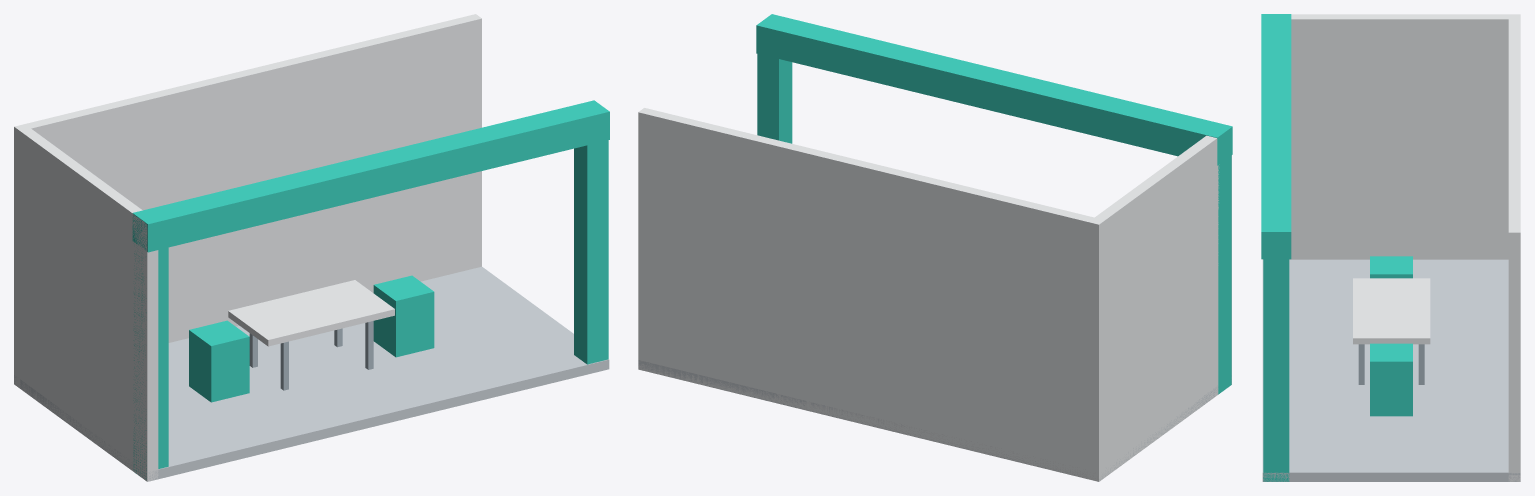
3 renders of one model, left to right at view 1: azimuth 30°, elevation 25°; view 2: azimuth 150°, elevation 25°; view 3: azimuth 270°, elevation 25°, orthographic. The views are drawn at different scales.
Parts seen in each view (by area): view 1: Exhibition Booth Concept; view 2: Exhibition Booth Concept; view 3: Exhibition Booth Concept.
Part boxes in pixels (box(x1,y1,x2,y2)): Exhibition Booth Concept: box(14, 14, 609, 481); Exhibition Booth Concept: box(638, 14, 1232, 481); Exhibition Booth Concept: box(1261, 14, 1520, 481).
Bounding box in the file's own units: 6 × 3.2 × 3.01.
